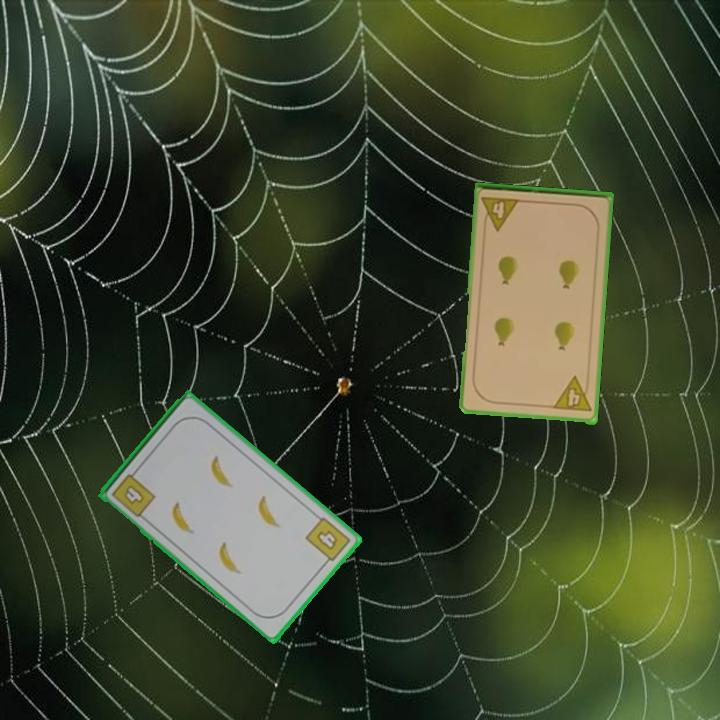4b: (302, 513, 353, 569), (108, 465, 159, 520)
4p: (549, 374, 594, 415), (478, 193, 523, 233)
